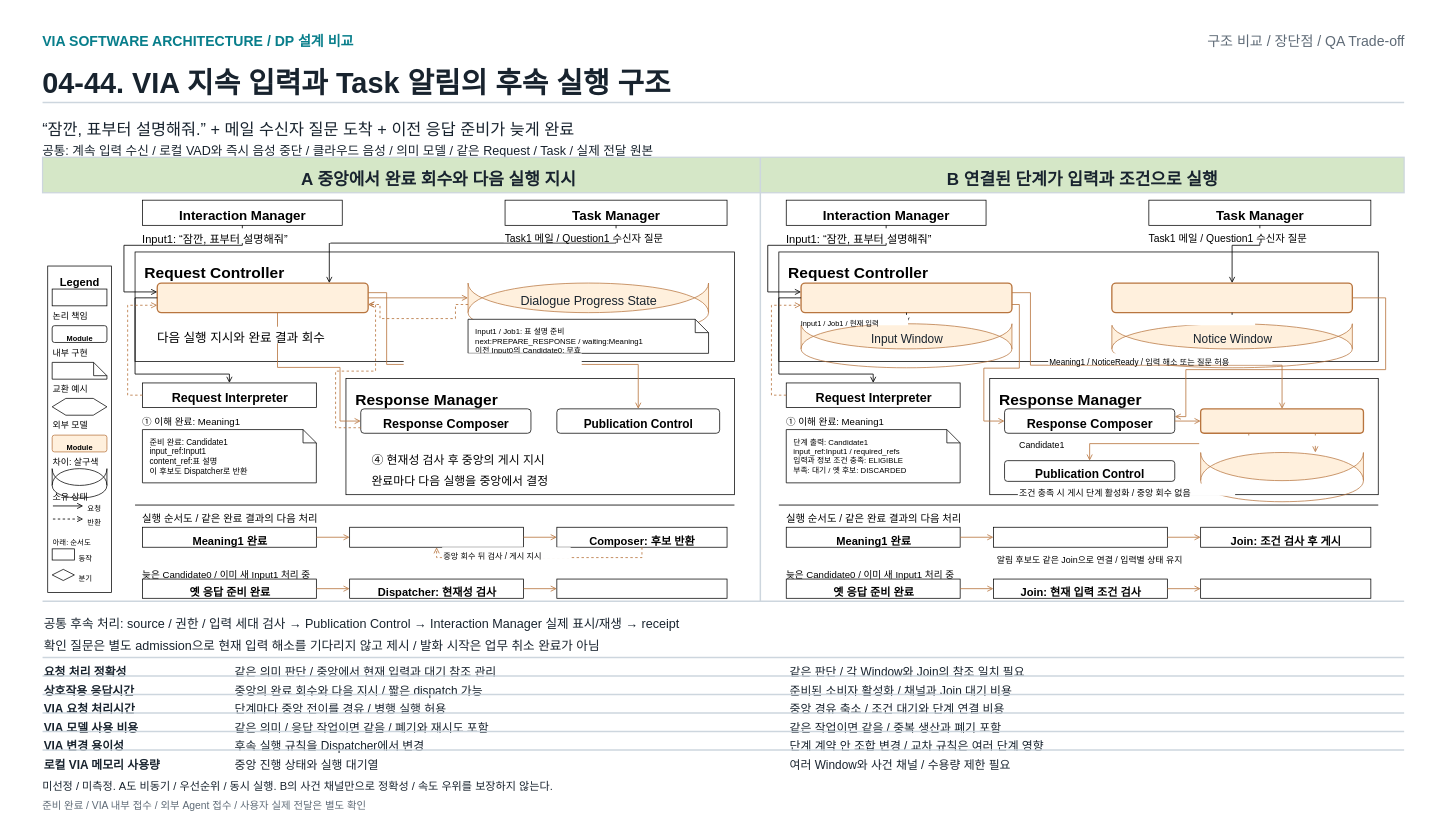
Image size: 1446x824. Some labels were removed from this diagram. Each missing label, with the centre of its shape:
Component: (x=79, y=297)
Composer: 후보 생산: (x=1080, y=537)
Data: (x=79, y=370)
Dialogue Dispatcher: (x=262, y=297)
Dispatcher: 준비 지시: (x=436, y=537)
Input Resolution Stage: (x=906, y=297)
LLM: (x=79, y=406)
Publication Join: (x=1282, y=421)
Publication Window: (x=1281, y=466)
Publication Window에서 폐기: (x=1285, y=588)
State: (x=79, y=476)
Task Notice Stage: (x=1232, y=297)
Task1 / Question1 / 정보 변경 확인: (x=1182, y=319)
② 중앙의 준비 지시 / ③ 준비 결과 회수: (x=492, y=359)
중앙에서 무효 후보 폐기: (x=641, y=588)
후보 + 해당 입력 / 정보 / 전달 상태: (x=1270, y=440)
